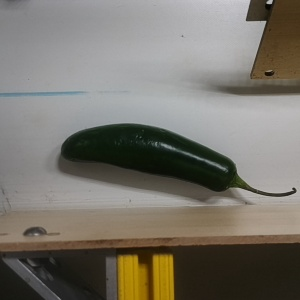Cut Point: (209, 156, 250, 197)
